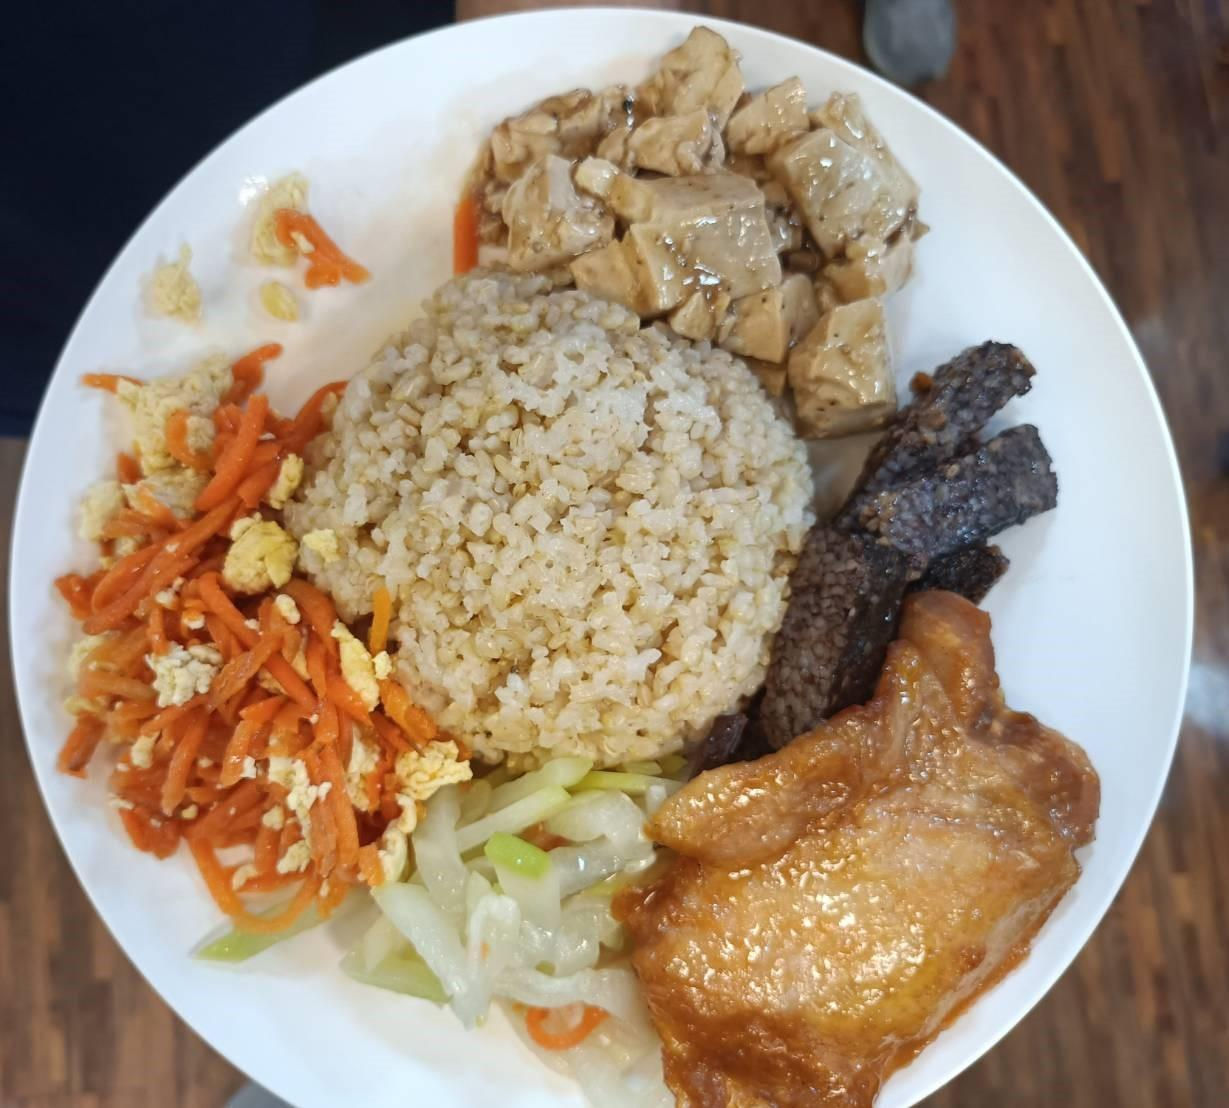big fried chicken leg: (31, 24, 1194, 1096)
box: (333, 301, 793, 747)
braised fish fillet: (71, 383, 384, 892), (491, 63, 910, 333), (370, 760, 666, 1035), (823, 347, 1039, 703)
braised pork: (626, 688, 1108, 1103)
